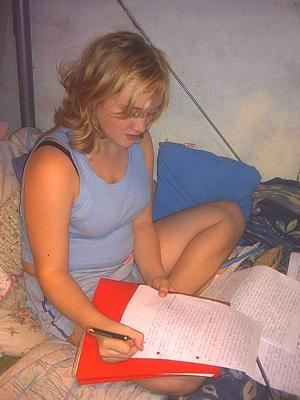person: (20, 31, 247, 393)
